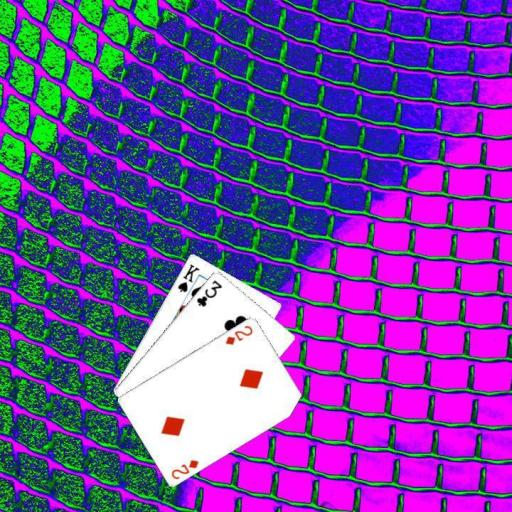card-corner: (194, 277, 224, 308), (174, 260, 201, 294), (168, 456, 200, 481), (222, 322, 254, 346)
